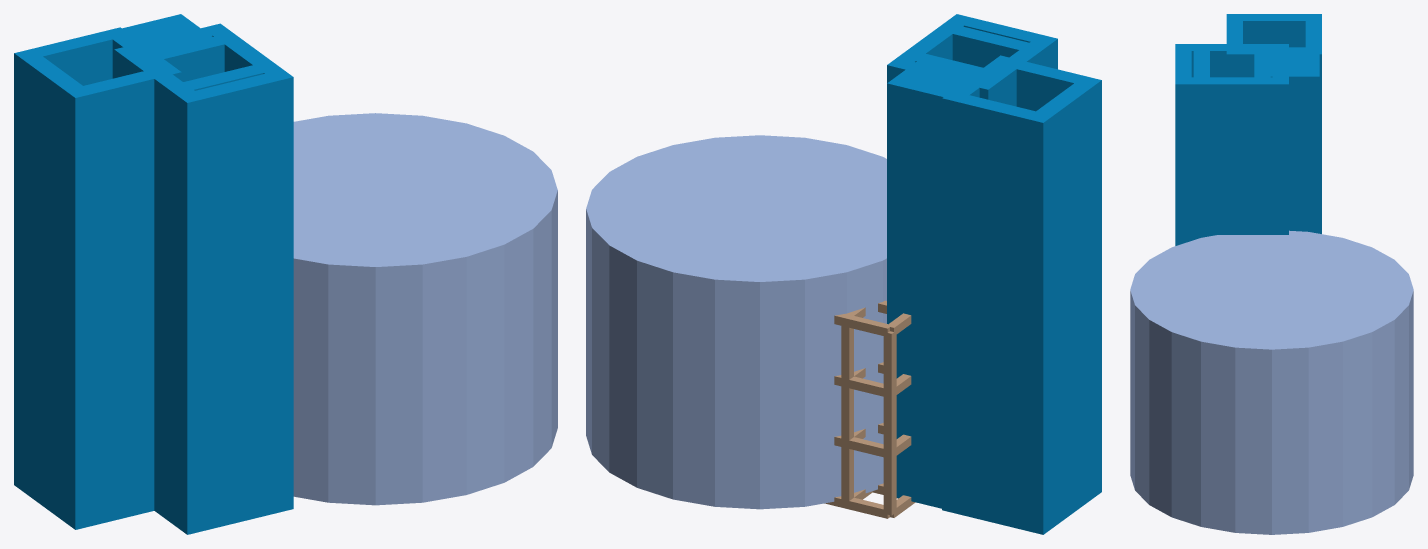
File: folie_tag_060.glb
The picture shows the model from 3 angles, left to right: view 1: azimuth 30°, elevation 25°; view 2: azimuth 150°, elevation 25°; view 3: azimuth 270°, elevation 25°; orthographic projection. The views are drawn at different scales.
Parts seen in each view (by area): view 1: folie_tag_060_00_drum, folie_tag_060_02_tower, folie_tag_060_03_tower, folie_tag_060_01_tower, folie_tag_060_core; view 2: folie_tag_060_00_drum, folie_tag_060_02_tower, folie_tag_060_core, folie_tag_060_04_cage, folie_tag_060_01_tower, folie_tag_060_03_tower; view 3: folie_tag_060_00_drum, folie_tag_060_01_tower, folie_tag_060_03_tower, folie_tag_060_core, folie_tag_060_02_tower.
Part boxes in pixels (<box>): folie_tag_060_00_drum: <box>293,113,557,505</box>; folie_tag_060_02_tower: <box>14,27,181,529</box>; folie_tag_060_03_tower: <box>126,33,293,534</box>; folie_tag_060_01_tower: <box>114,23,281,525</box>; folie_tag_060_core: <box>116,14,218,58</box>; folie_tag_060_00_drum: <box>586,135,886,509</box>; folie_tag_060_02_tower: <box>942,55,1101,534</box>; folie_tag_060_core: <box>887,56,986,508</box>; folie_tag_060_04_cage: <box>824,300,915,518</box>; folie_tag_060_01_tower: <box>887,22,1045,104</box>; folie_tag_060_03_tower: <box>899,14,1057,106</box>; folie_tag_060_00_drum: <box>1130,230,1413,534</box>; folie_tag_060_01_tower: <box>1193,44,1288,239</box>; folie_tag_060_03_tower: <box>1175,44,1270,245</box>; folie_tag_060_core: <box>1259,54,1319,233</box>; folie_tag_060_02_tower: <box>1226,14,1321,233</box>.
Size of the model in its own units: 8.03 by 6.87 by 5.2.
